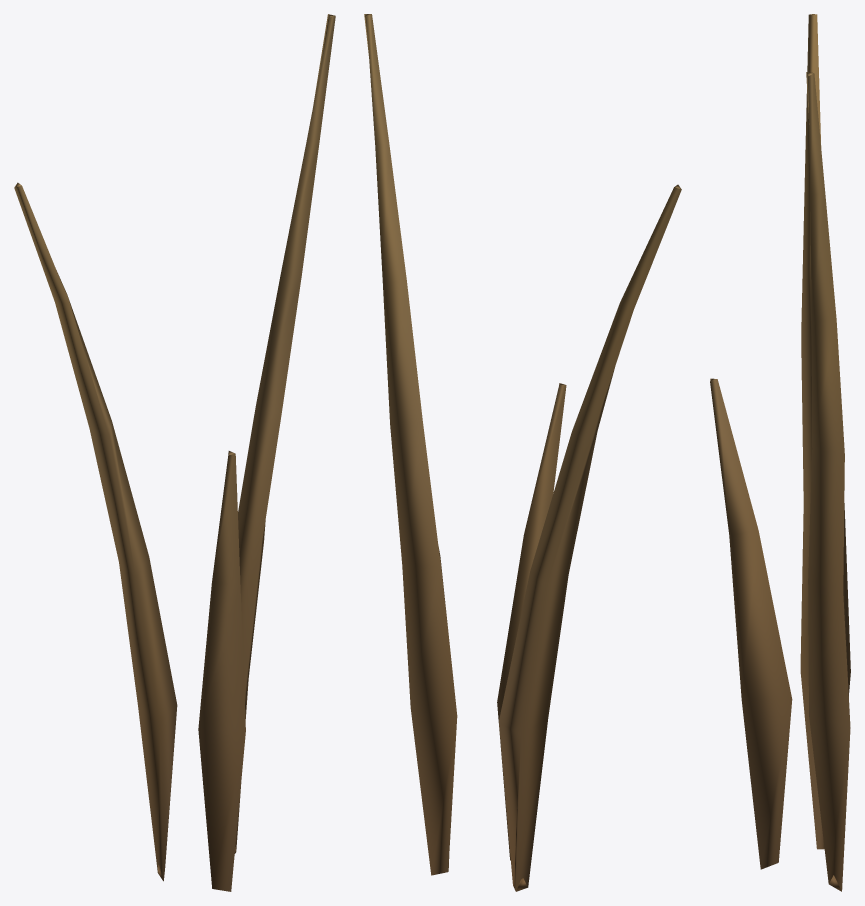
The model's file is trees-grasses-dry-grass-blades_v4.glb.
The picture shows the model from 3 angles, left to right: view 1: azimuth 30°, elevation 25°; view 2: azimuth 150°, elevation 25°; view 3: azimuth 270°, elevation 25°; orthographic projection. The views are drawn at different scales.
Visible parts, largest first — view 1: Dry Grass Blades_v4; view 2: Dry Grass Blades_v4; view 3: Dry Grass Blades_v4.
Boxes of the visible parts, <box> form: Dry Grass Blades_v4: <box>14,14,335,891</box>; Dry Grass Blades_v4: <box>364,14,681,891</box>; Dry Grass Blades_v4: <box>710,14,850,891</box>.
Bounding box in the file's own units: 0.2419 × 0.6 × 0.0892.
